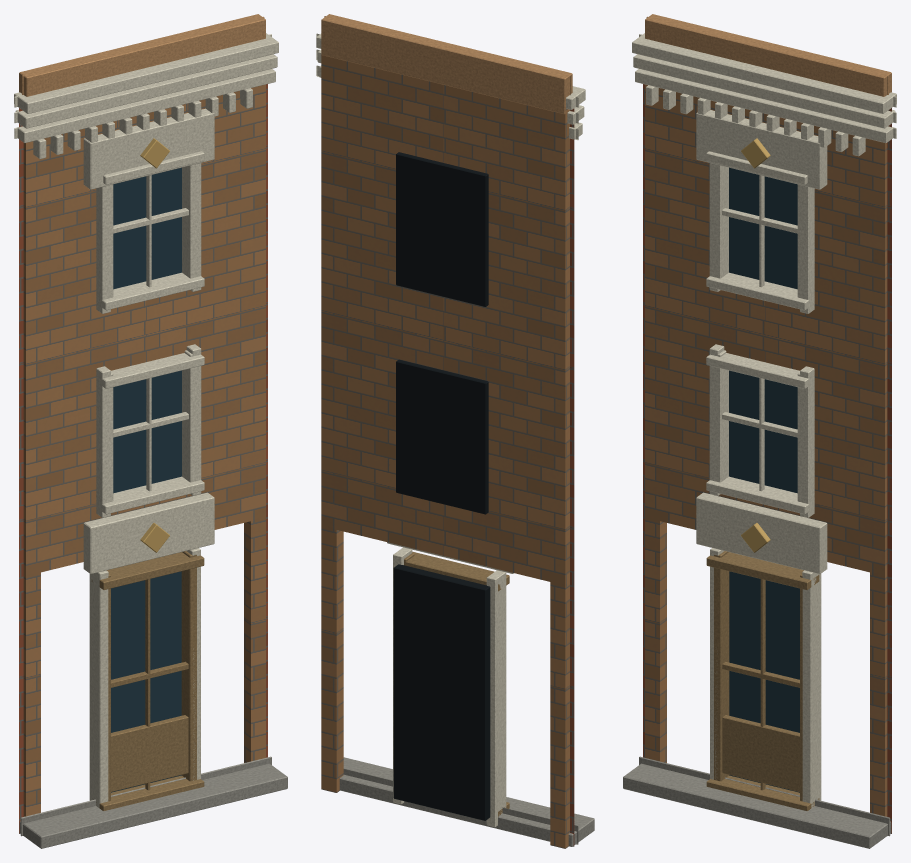
File: CLSTGA18_lod1.glb
3 views of the same model, side by side, from view 1: azimuth 30°, elevation 25°; view 2: azimuth 150°, elevation 25°; view 3: azimuth 330°, elevation 25° (orthographic).
Visible parts, largest first — view 1: CLSTGA18_FRONT_LOD1; view 2: CLSTGA18_FRONT_LOD1; view 3: CLSTGA18_FRONT_LOD1.
Part boxes in pixels (x1,y1,x2,y2): CLSTGA18_FRONT_LOD1: (14, 14, 287, 848); CLSTGA18_FRONT_LOD1: (316, 14, 594, 848); CLSTGA18_FRONT_LOD1: (623, 14, 896, 848).
Size of the model in its own units: 3.44 by 9.66 by 0.68.
10 materials, 7 textured.
